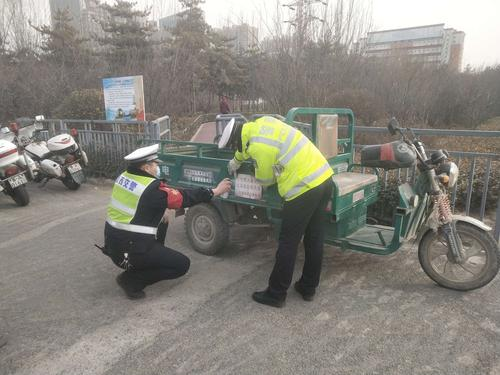empty: (138, 74, 500, 325)
